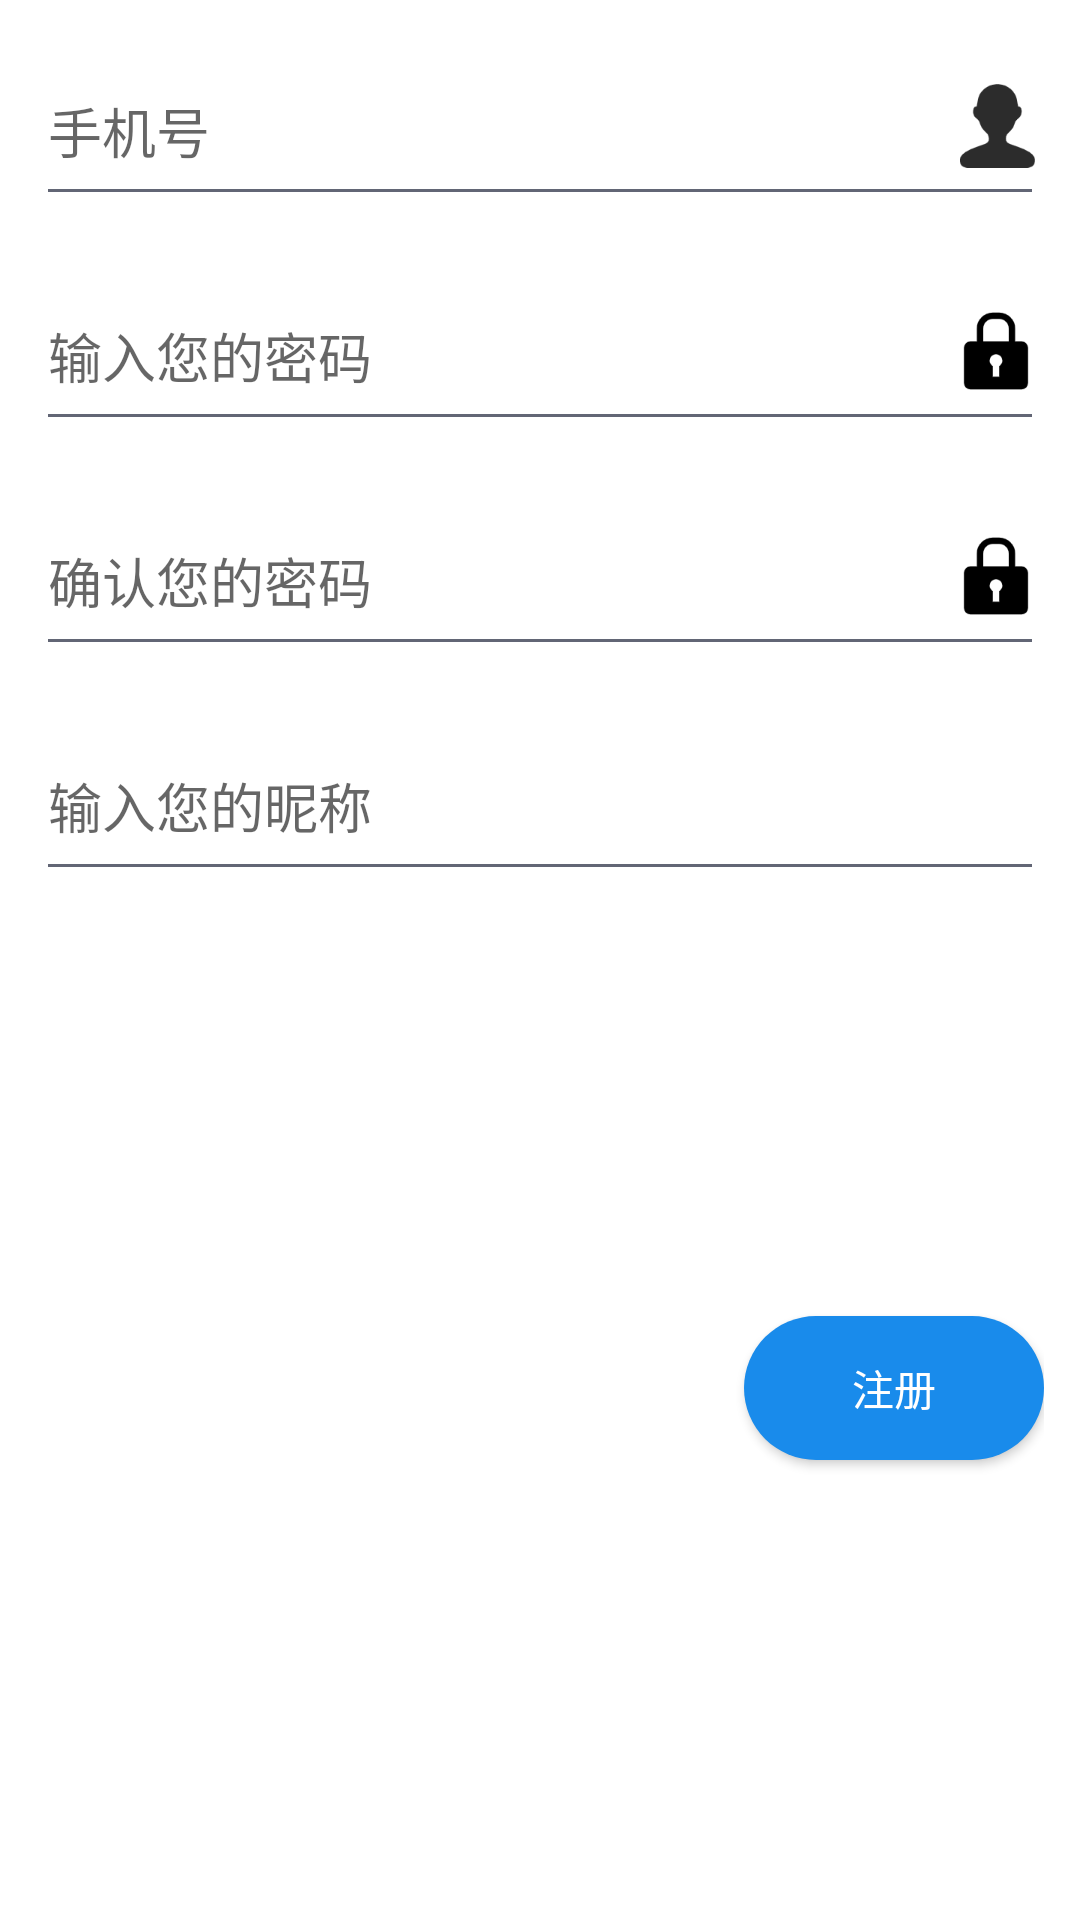

Point at icon controls on the screen. Image size 1080px x 1920px, points as point (x, y).
lock: point (996, 351), point (996, 576)
user login: point (997, 126)
